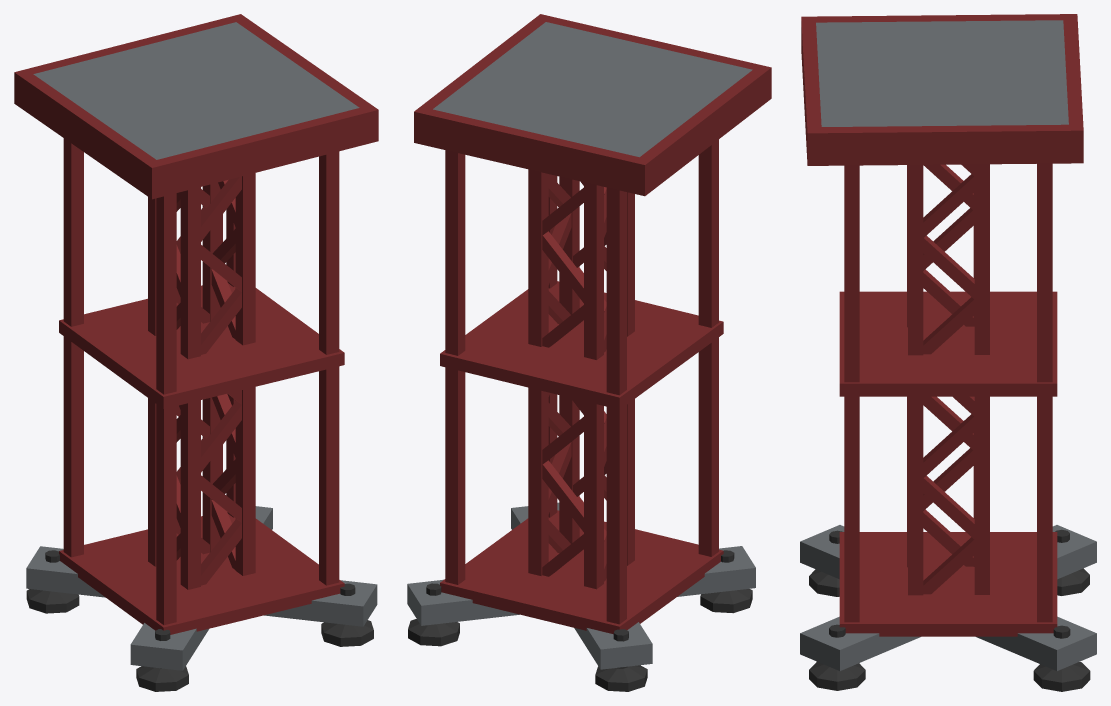
File: DarkRedMetalDecorationMediumConstructionTower1.fbx
3 views of the same model, side by side, from view 1: azimuth 30°, elevation 25°; view 2: azimuth 150°, elevation 25°; view 3: azimuth 270°, elevation 25° (orthographic). The views are drawn at different scales.
Parts seen in each view (by area): view 1: DarkRedMetalDecorationMediumConstructionTower1; view 2: DarkRedMetalDecorationMediumConstructionTower1; view 3: DarkRedMetalDecorationMediumConstructionTower1.
Boxes of the visible parts, x1,y1,x2,y2 form: DarkRedMetalDecorationMediumConstructionTower1: [14, 14, 378, 691]; DarkRedMetalDecorationMediumConstructionTower1: [407, 14, 771, 691]; DarkRedMetalDecorationMediumConstructionTower1: [800, 14, 1096, 691].
Bounding box in the file's own units: 782 × 1597 × 775.
